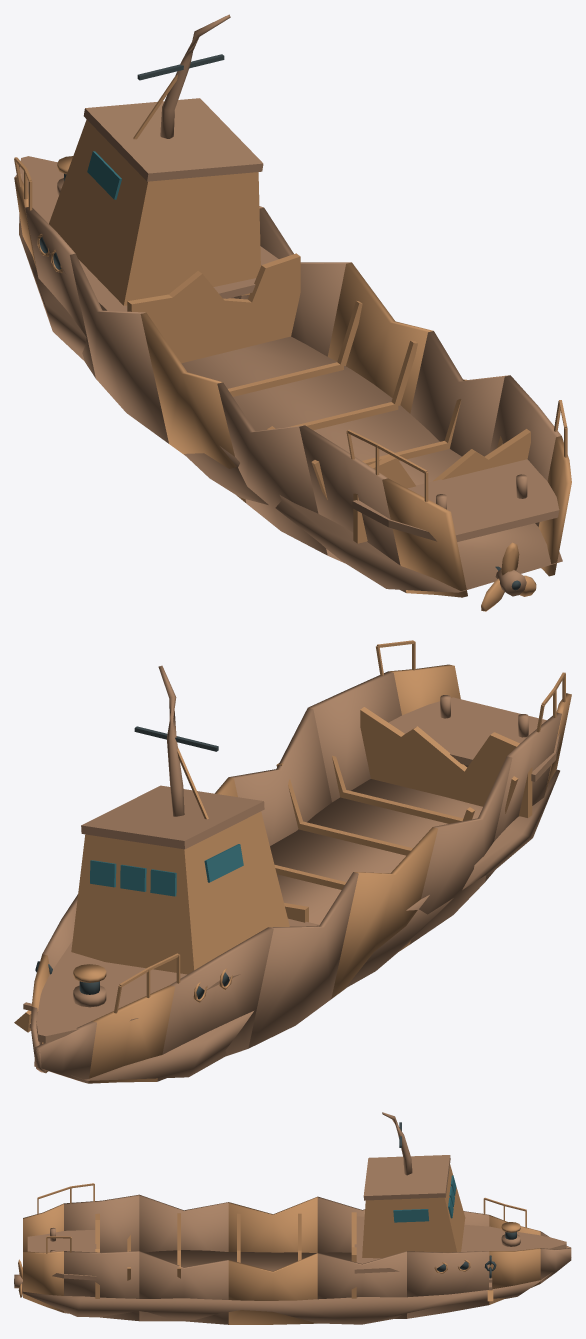
The model's file is ENV_BeachedWreck_LOD1.fbx.
The picture shows the model from 3 angles, top to bottom: view 1: azimuth 30°, elevation 25°; view 2: azimuth 150°, elevation 25°; view 3: azimuth 270°, elevation 25°; orthographic projection. The views are drawn at different scales.
Visible parts, largest first — view 1: ENV_BeachedWreck_Root_Visual; view 2: ENV_BeachedWreck_Root_Visual; view 3: ENV_BeachedWreck_Root_Visual.
Part boxes in pixels (<box>): ENV_BeachedWreck_Root_Visual: <box>14,14,571,611</box>; ENV_BeachedWreck_Root_Visual: <box>14,640,571,1083</box>; ENV_BeachedWreck_Root_Visual: <box>14,1112,571,1324</box>.
Bounding box in the file's own units: 213 × 326 × 814.
